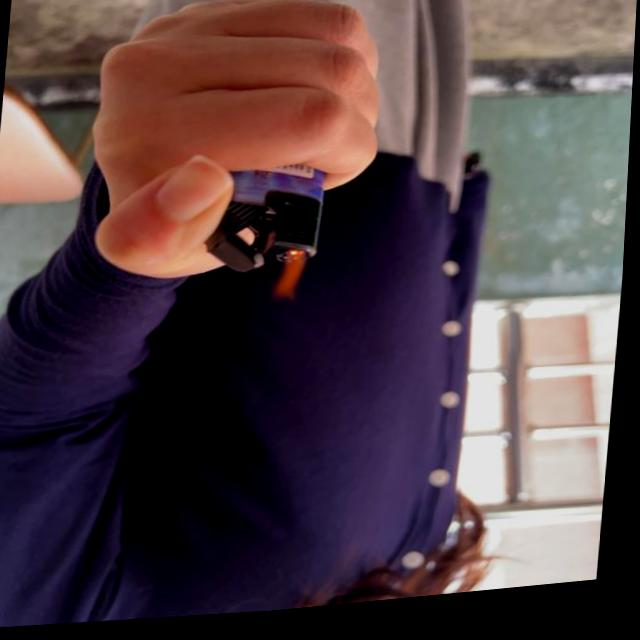Fire: (272, 254, 312, 312)
